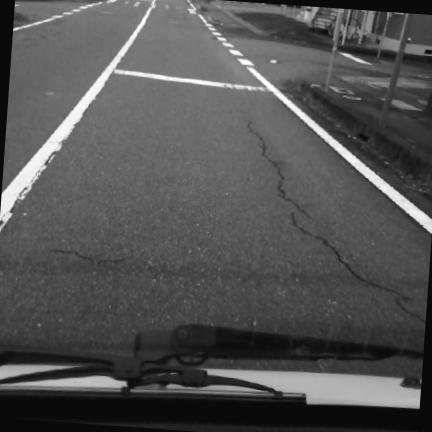Road: (0, 0, 431, 353)
